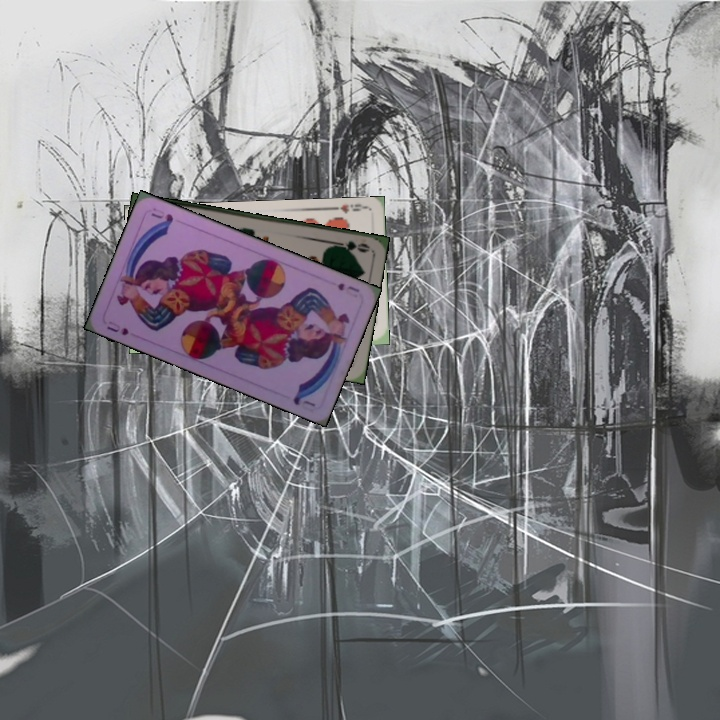GO: (330, 237, 371, 255)
H9: (328, 200, 368, 216)
SU: (103, 317, 132, 338), (334, 279, 362, 295)
